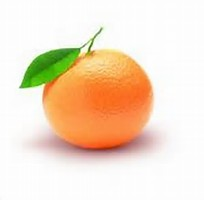orange: (37, 40, 155, 146)
